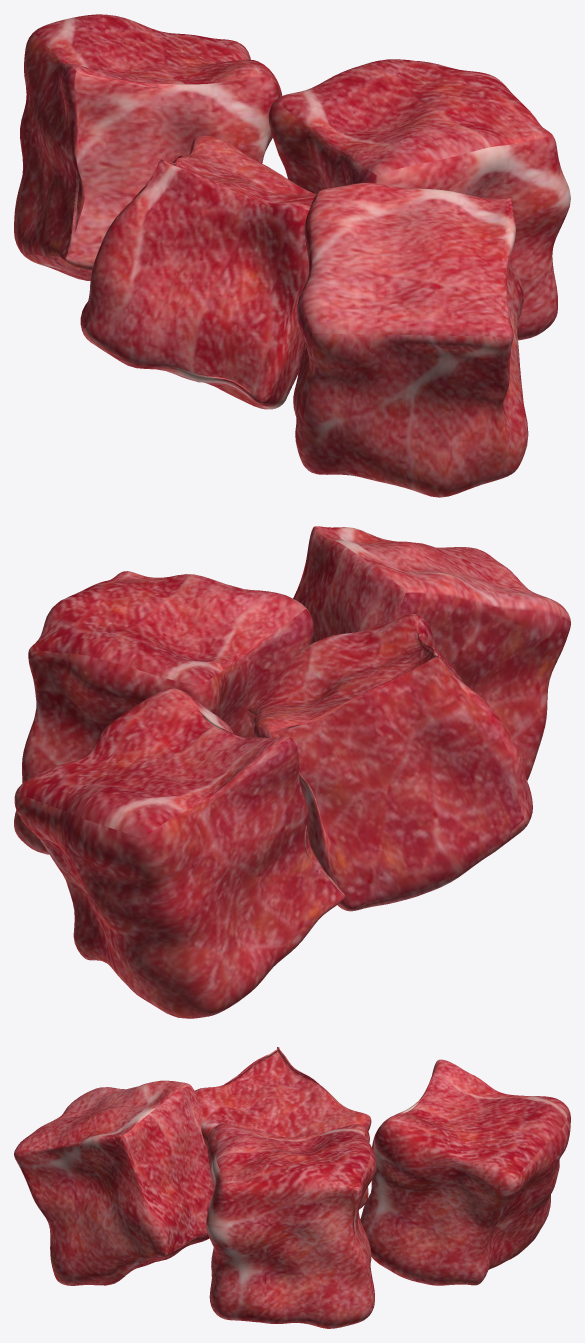
File: DicedRawBeef.fbx
The picture shows the model from 3 angles, top to bottom: view 1: azimuth 30°, elevation 25°; view 2: azimuth 150°, elevation 25°; view 3: azimuth 270°, elevation 25°; orthographic projection. The views are drawn at different scales.
Parts seen in each view (by area): view 1: DicedRawBeef; view 2: DicedRawBeef; view 3: DicedRawBeef.
Boxes of the visible parts, bbox=[...] form: DicedRawBeef: bbox=[14, 14, 570, 497]; DicedRawBeef: bbox=[14, 526, 570, 1018]; DicedRawBeef: bbox=[14, 1047, 570, 1328].
Bounding box in the file's own units: 502 × 284 × 772.
